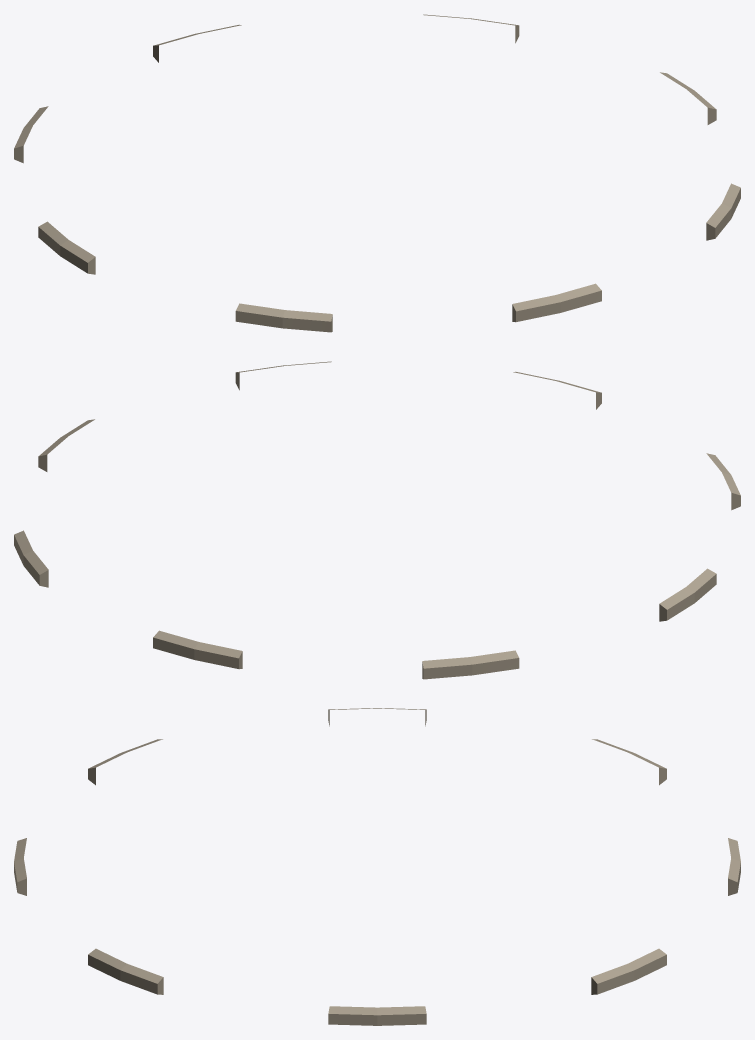
File: dome.trim_middle.stone.glb
3 renders of one model, top to bottom at view 1: azimuth 30°, elevation 25°; view 2: azimuth 150°, elevation 25°; view 3: azimuth 270°, elevation 25°, orthographic.
Parts seen in each view (by area): view 1: dome_trim_middle_stone; view 2: dome_trim_middle_stone; view 3: dome_trim_middle_stone.
Boxes of the visible parts, x1=… form: dome_trim_middle_stone: x1=14, y1=14, x2=740, y2=332; dome_trim_middle_stone: x1=14, y1=361, x2=740, y2=679; dome_trim_middle_stone: x1=14, y1=708, x2=740, y2=1025.
Size of what is drawn, in the model's own units: 7.4 by 0.2 by 7.4.
